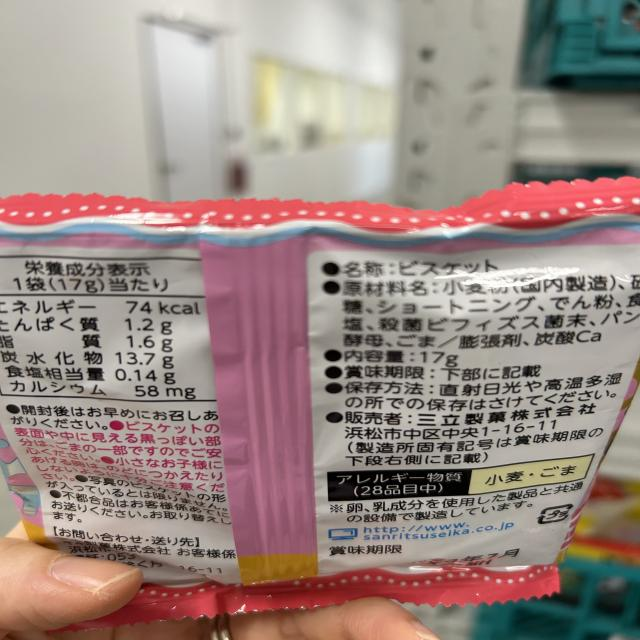object_name: (4, 202, 576, 594)
